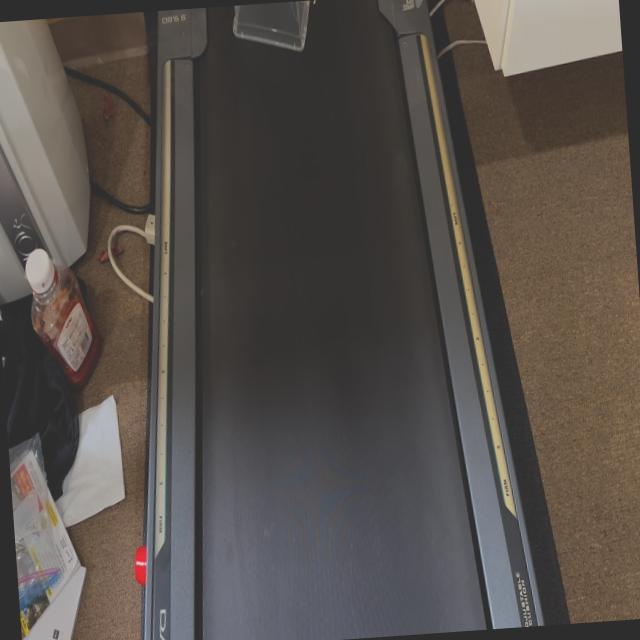Recycle: (225, 0, 321, 58)
